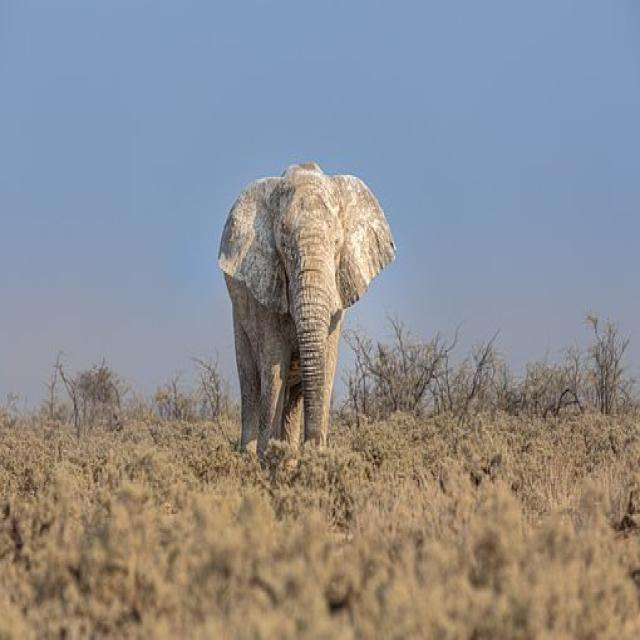Elephant: (198, 132, 412, 509)
